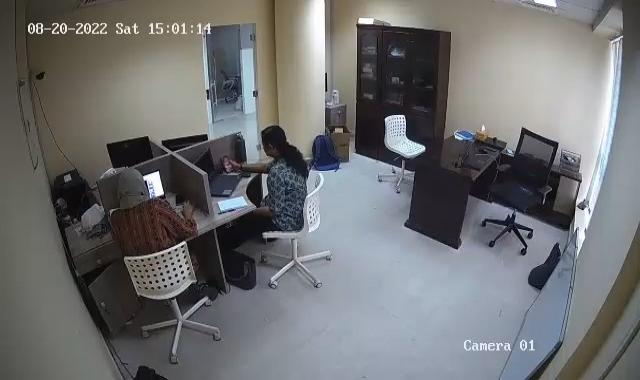no_hairnet: (253, 122, 298, 164), (116, 166, 152, 208)
